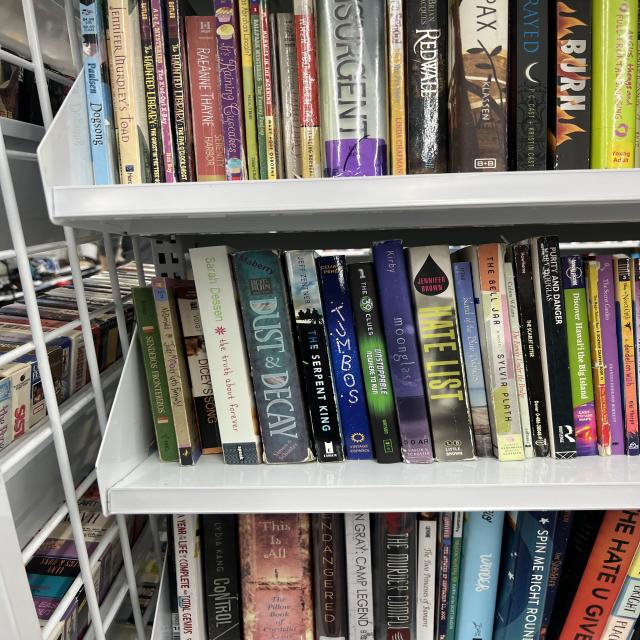book: (228, 245, 317, 468), (189, 243, 265, 469), (405, 244, 477, 464), (456, 243, 524, 463), (370, 239, 435, 466), (284, 248, 346, 464), (316, 0, 390, 177), (315, 254, 375, 463), (469, 243, 524, 462), (345, 261, 404, 465), (559, 499, 640, 640), (529, 235, 579, 461), (449, 0, 508, 172), (533, 502, 606, 640), (238, 512, 314, 640), (152, 276, 202, 467), (490, 506, 558, 640), (173, 284, 225, 456), (511, 243, 552, 457), (506, 0, 556, 171), (132, 286, 180, 463), (589, 0, 639, 169), (103, 0, 148, 185), (452, 263, 493, 458), (561, 255, 599, 456), (78, 0, 119, 185), (405, 0, 448, 174), (549, 0, 593, 170), (184, 15, 227, 182), (212, 0, 249, 181), (453, 509, 504, 640), (594, 255, 627, 455), (502, 261, 535, 458), (162, 0, 196, 182), (583, 260, 613, 456), (532, 508, 575, 640), (371, 513, 416, 639), (200, 513, 243, 640), (294, 0, 323, 178), (613, 257, 639, 455), (125, 0, 153, 183), (310, 513, 350, 640), (169, 4, 197, 182), (138, 0, 165, 183), (491, 510, 528, 640), (150, 0, 176, 183), (171, 513, 208, 640), (276, 5, 302, 178), (237, 0, 260, 180), (345, 513, 374, 640), (386, 0, 407, 175), (249, 0, 269, 179), (258, 0, 278, 179), (602, 548, 639, 639), (414, 513, 438, 640), (268, 10, 285, 178), (445, 511, 464, 639), (435, 512, 452, 639), (632, 258, 639, 405), (0, 377, 12, 449)
